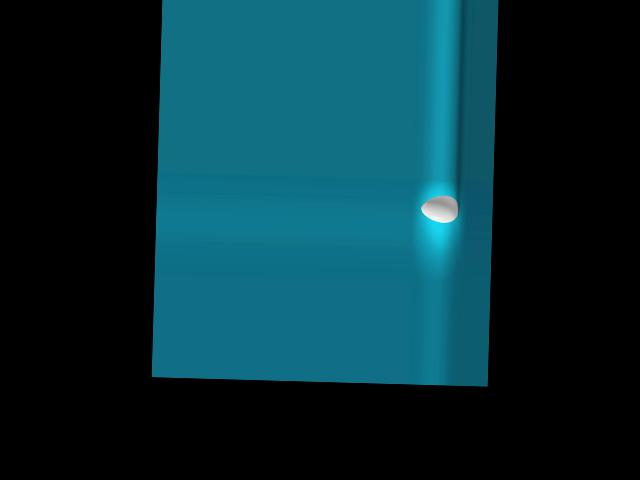egg: (421, 194, 459, 223)
